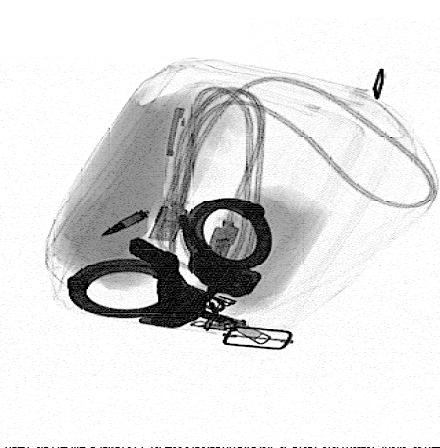Bullet: (99, 209, 148, 236)
Gun: (128, 236, 180, 315)
HandCuffs: (66, 197, 274, 334)
